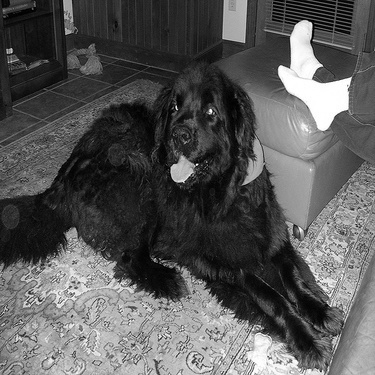dog: (3, 56, 352, 373)
